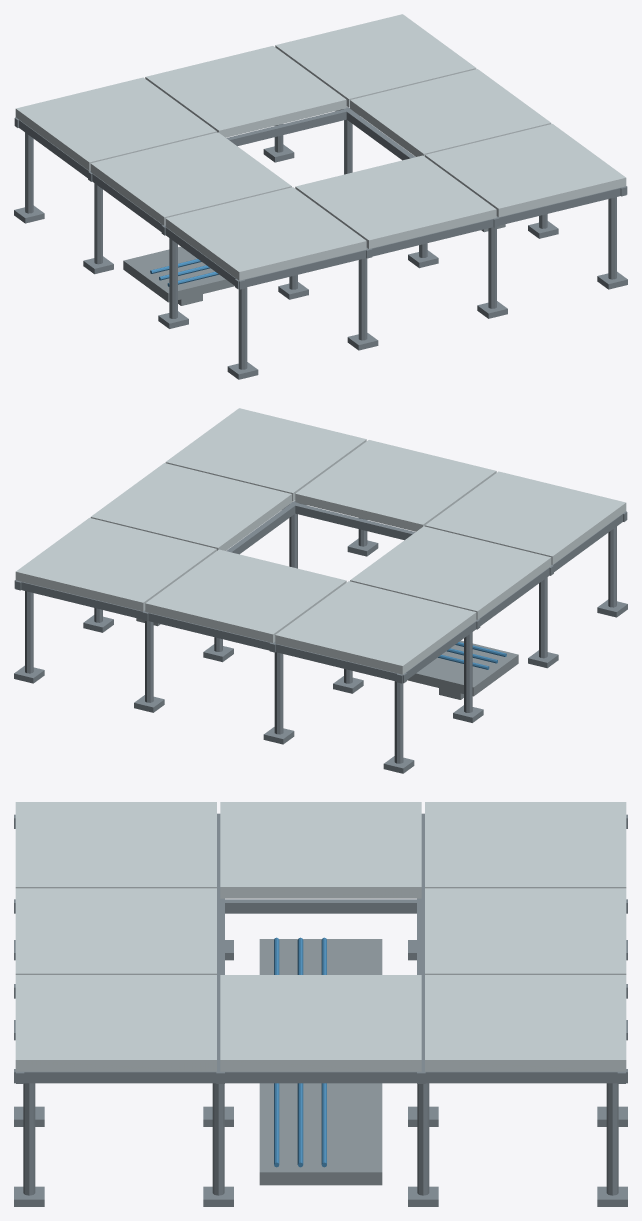
File: 23_Raised_Floor_Section_Pedestals.fbx
3 renders of one model, top to bottom at view 1: azimuth 30°, elevation 25°; view 2: azimuth 150°, elevation 25°; view 3: azimuth 270°, elevation 25°, orthographic. The views are drawn at different scales.
Parts seen in each view (by area): view 1: 23_Raised_Floor_Section_Pedestals; view 2: 23_Raised_Floor_Section_Pedestals; view 3: 23_Raised_Floor_Section_Pedestals.
Part boxes in pixels (x1,y1,x2,y2): 23_Raised_Floor_Section_Pedestals: (14,14,627,379); 23_Raised_Floor_Section_Pedestals: (14,408,627,773); 23_Raised_Floor_Section_Pedestals: (14,802,627,1206).
Size of the model in its own units: 180 by 47.3 by 180.
